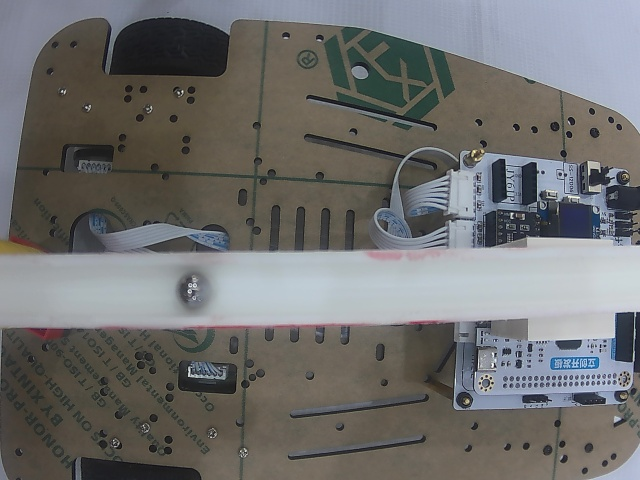steelball: (174, 272, 211, 307)
